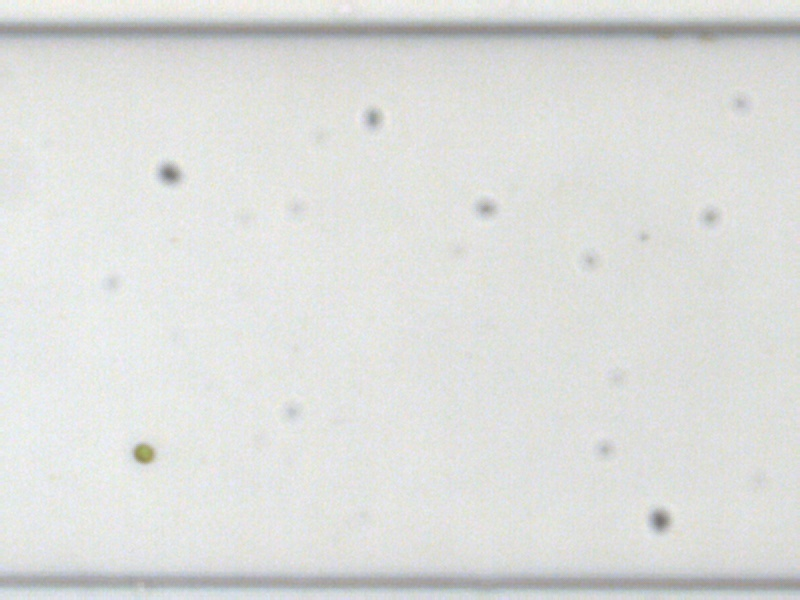Chlorella: (133, 441, 156, 465)
